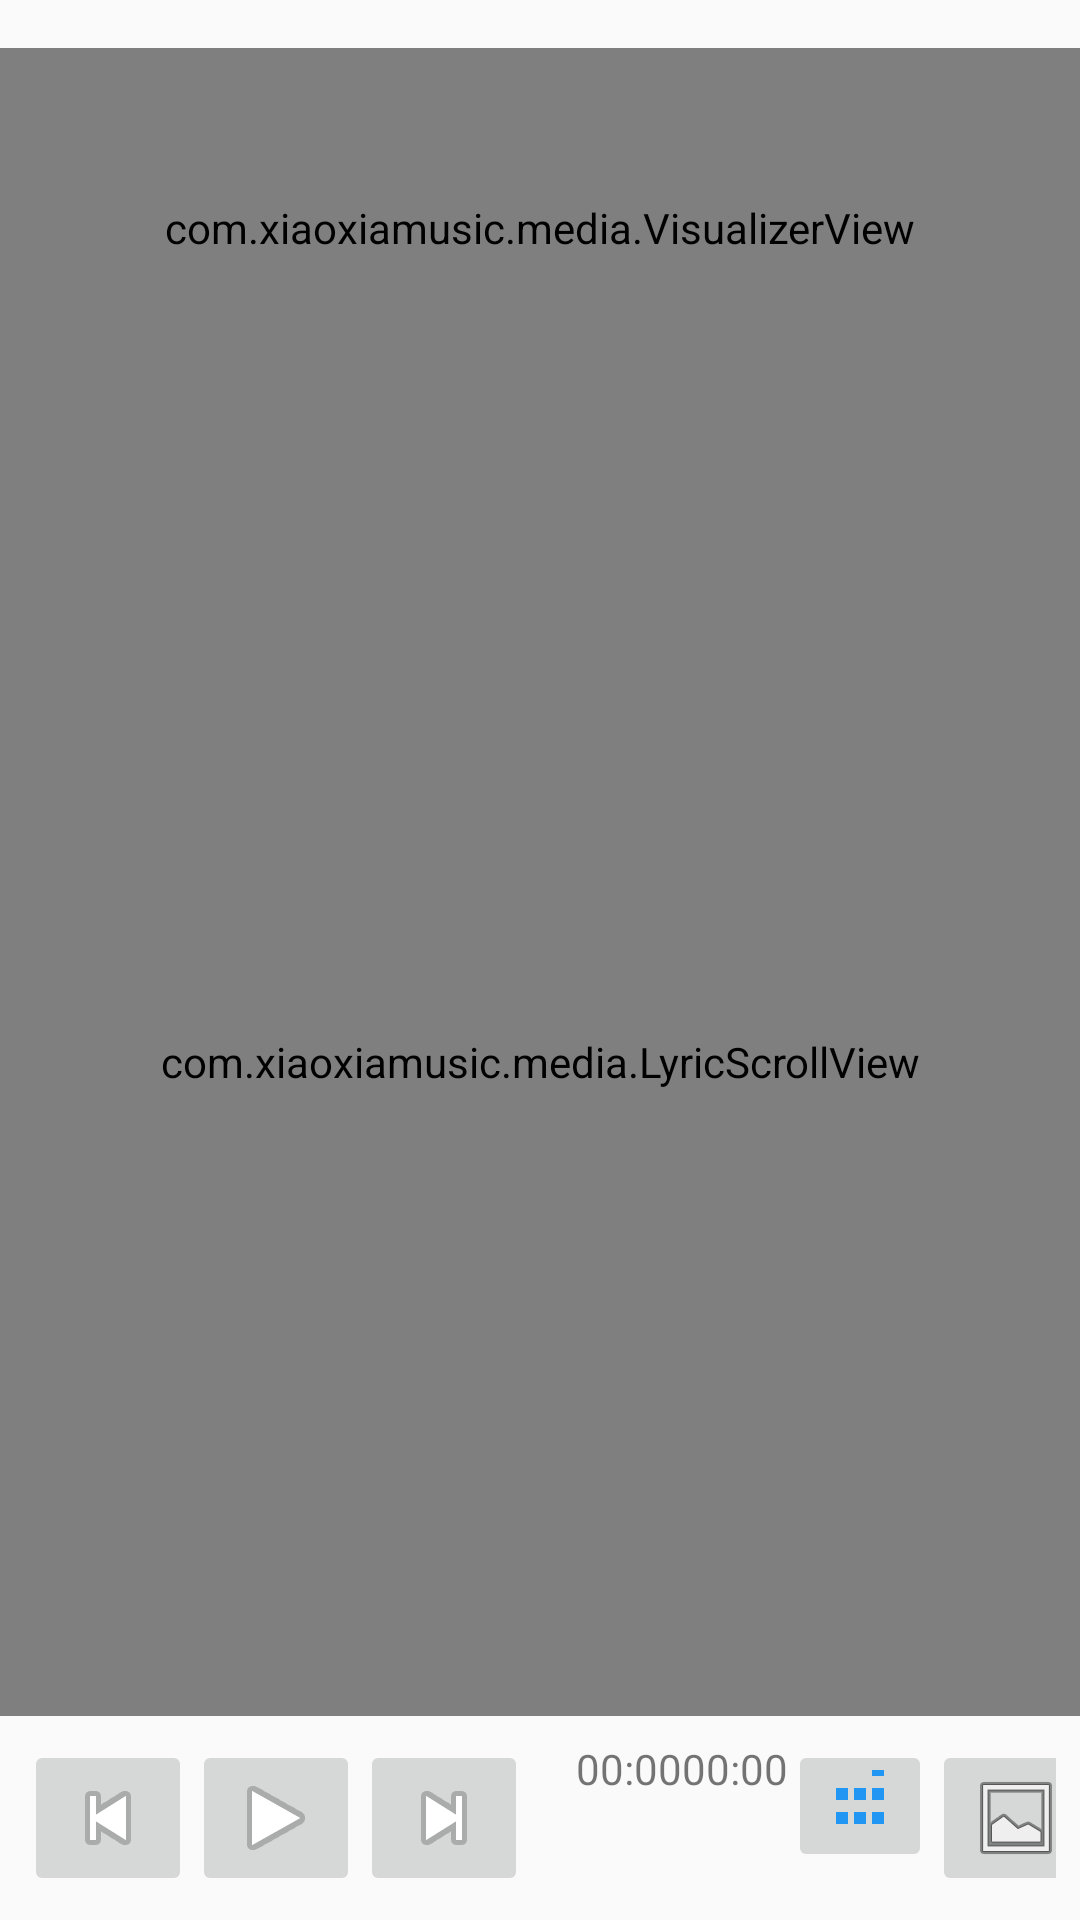

Named icons in this screenshot (1080×1920) and their bounding boxes, (x1, y1, x2, y2):
equalizer: (800, 1758, 920, 1854)
next: (372, 1758, 516, 1878)
play: (204, 1758, 348, 1878)
previous: (36, 1758, 180, 1878)
